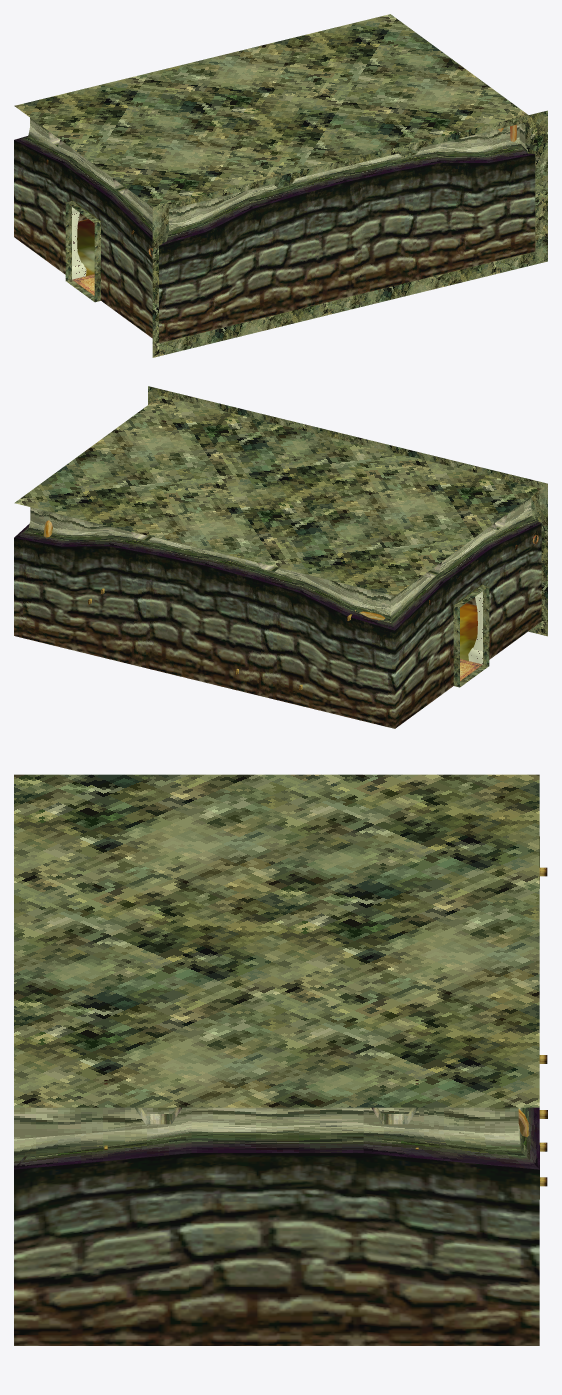
The picture shows the model from 3 angles, top to bottom: view 1: azimuth 30°, elevation 25°; view 2: azimuth 150°, elevation 25°; view 3: azimuth 270°, elevation 25°; orthographic projection. The views are drawn at different scales.
Parts seen in each view (by area): view 1: b1_c_67; view 2: b1_c_67; view 3: b1_c_67.
Part boxes in pixels (x1,y1,x2,y2): b1_c_67: (14,14,547,357); b1_c_67: (14,386,547,728); b1_c_67: (14,774,547,1345).
Bounding box in the file's own units: 1575 × 575 × 1016.
10 materials, 10 textured.
